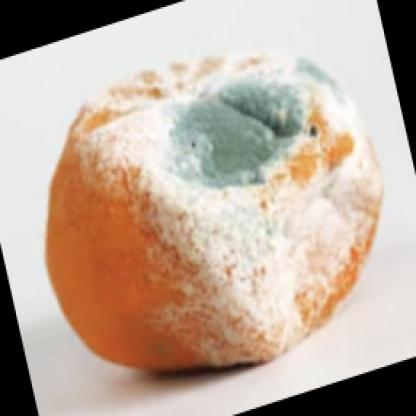rotten_orange: (39, 46, 386, 377)
